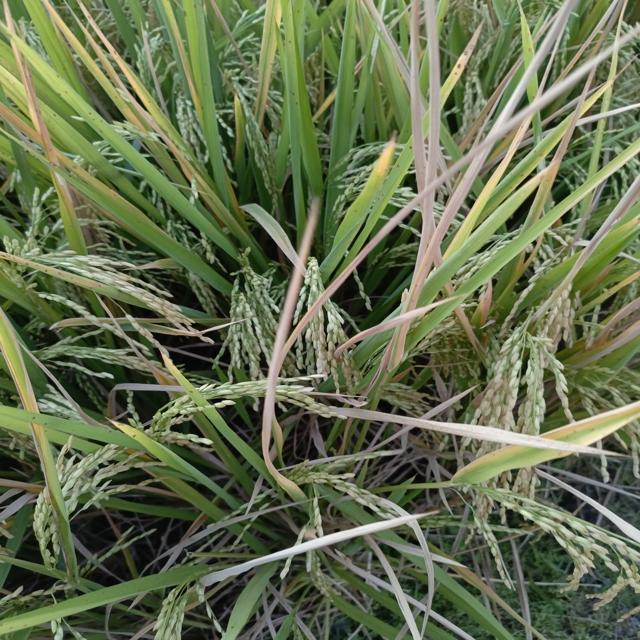Brown spot: (274, 19, 640, 465), (45, 0, 231, 206), (0, 307, 87, 588), (443, 390, 640, 506), (308, 402, 639, 471), (258, 188, 324, 499), (0, 0, 69, 198)
insects: (186, 387, 196, 397), (131, 433, 141, 440)
